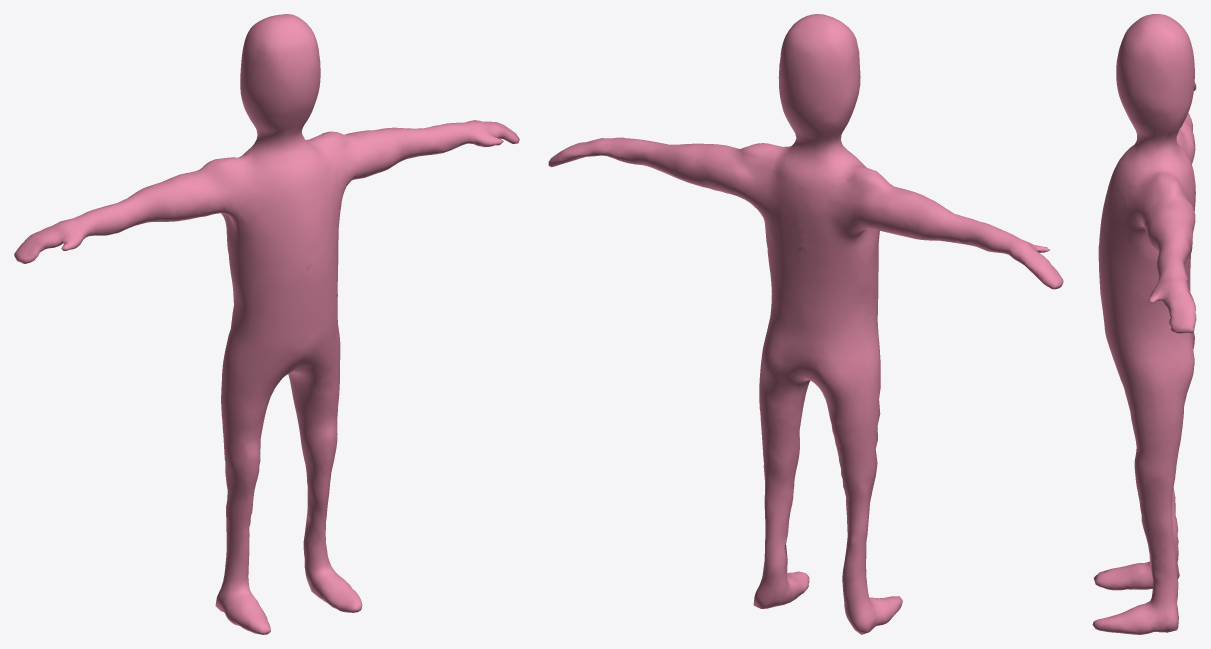
The picture shows the model from 3 angles, left to right: view 1: azimuth 30°, elevation 25°; view 2: azimuth 150°, elevation 25°; view 3: azimuth 270°, elevation 25°; orthographic projection.
Visible parts, largest first — view 1: Quad Sphere; view 2: Quad Sphere; view 3: Quad Sphere.
Boxes of the visible parts, x1,y1,x2,y2 form: Quad Sphere: (14, 14, 519, 634); Quad Sphere: (548, 14, 1063, 634); Quad Sphere: (1092, 14, 1196, 634).
Size of the model in its own units: 6.01 by 1.08 by 6.75.
